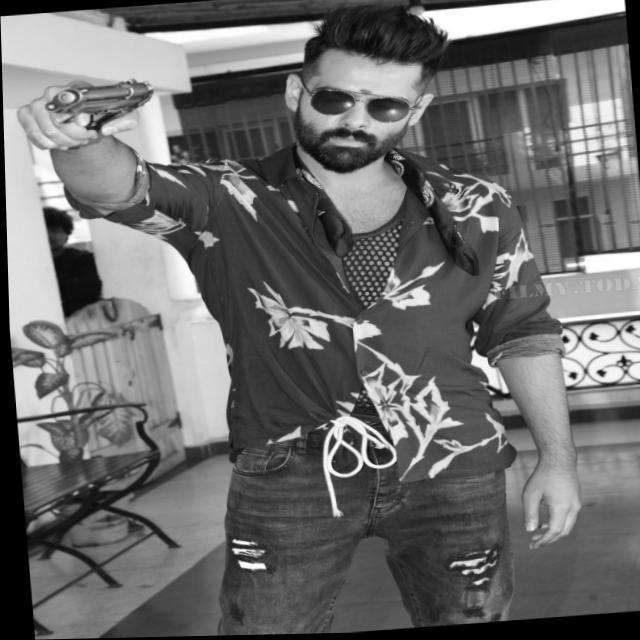weapon: (26, 74, 172, 169)
